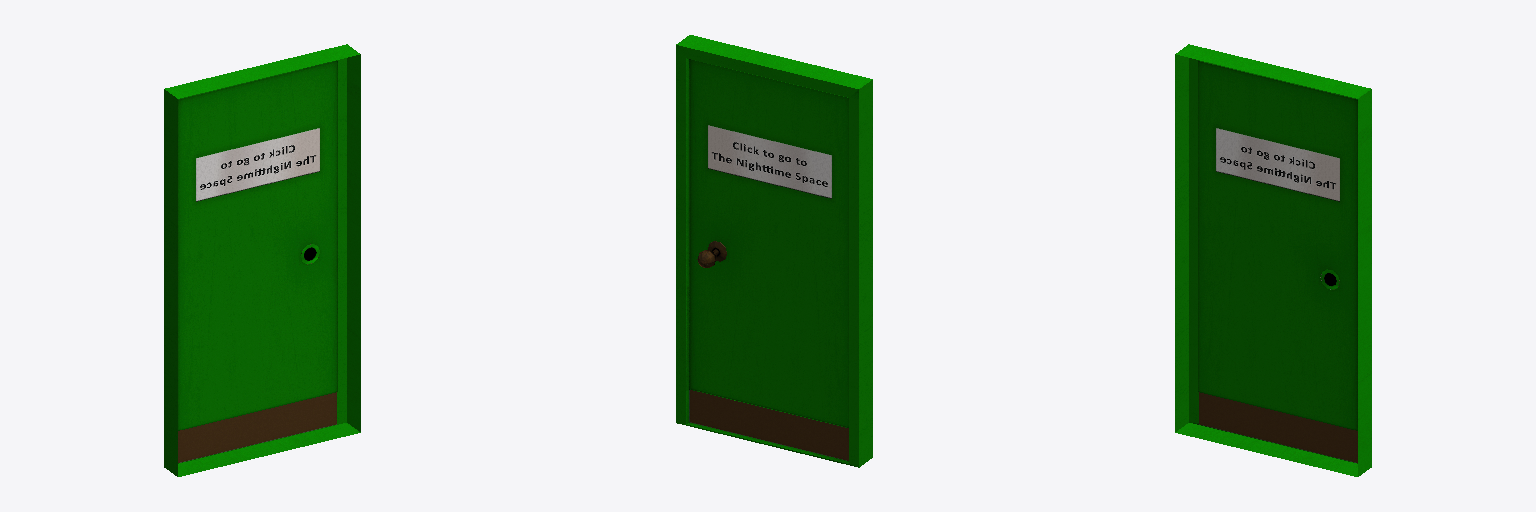
The picture shows the model from 3 angles: view 1: azimuth 30°, elevation 25°; view 2: azimuth 150°, elevation 25°; view 3: azimuth 330°, elevation 25°; orthographic projection.
Parts seen in each view (by area): view 1: Doortall; view 2: Doortall; view 3: Doortall.
Boxes of the visible parts, box(x1,y1,x2,y2) form: Doortall: box(164, 44, 360, 476); Doortall: box(676, 35, 872, 467); Doortall: box(1175, 44, 1371, 476).
Bounding box in the file's own units: 1.17 × 2.31 × 0.2977.
Materials: 1 (1 with a texture image).